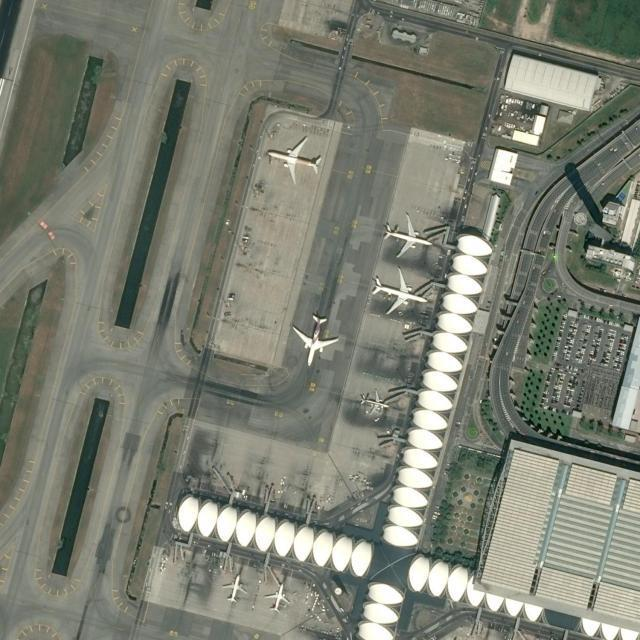Aircraft: (369, 266, 425, 314), (290, 312, 338, 366), (267, 137, 322, 183), (381, 212, 433, 257), (221, 574, 247, 602), (265, 582, 289, 612), (360, 389, 389, 413)
